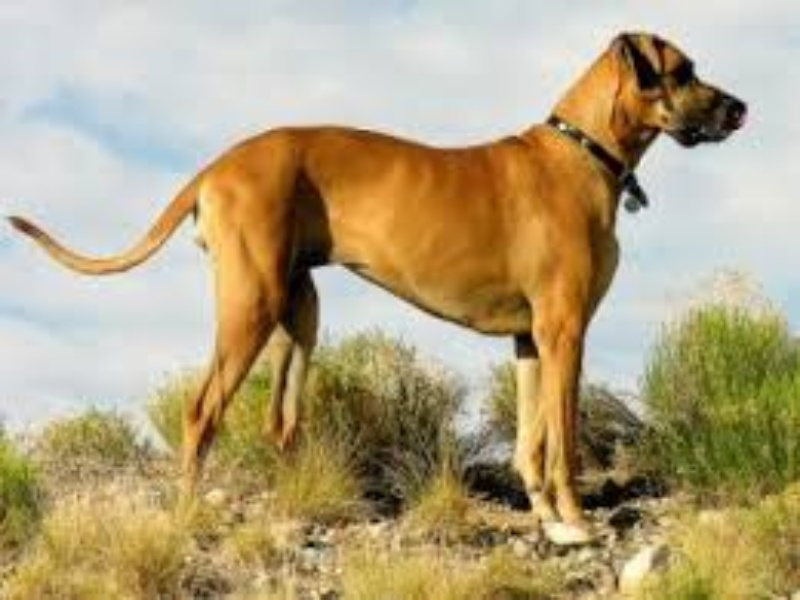dog: (29, 28, 748, 574)
